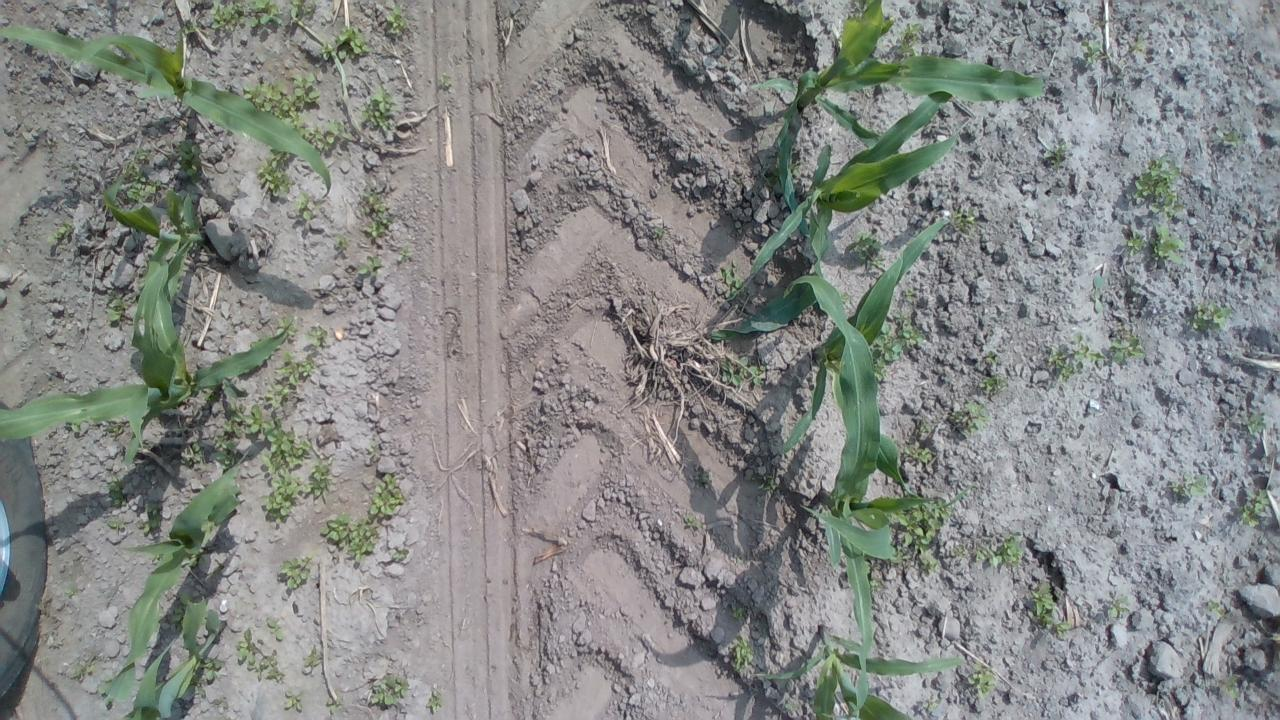Maize: (782, 273, 972, 720), (756, 0, 1049, 243), (710, 90, 954, 342), (0, 24, 333, 198), (0, 267, 288, 468), (774, 220, 949, 501), (103, 448, 251, 703), (751, 622, 964, 720), (104, 177, 205, 381), (121, 596, 228, 720)
Weeds: (213, 400, 310, 472), (888, 498, 952, 572), (871, 312, 927, 380), (1132, 154, 1186, 221), (244, 72, 321, 118), (320, 512, 380, 564), (1046, 335, 1106, 384), (1025, 580, 1071, 642), (259, 473, 311, 527), (235, 628, 284, 682), (210, 0, 284, 30), (255, 142, 295, 197), (165, 589, 211, 633), (124, 150, 160, 206), (366, 472, 406, 519), (355, 191, 392, 240), (320, 25, 370, 60), (362, 87, 400, 130), (949, 400, 993, 434), (1110, 326, 1146, 364), (850, 231, 886, 269), (719, 356, 766, 385), (192, 656, 224, 698), (369, 675, 411, 707), (275, 349, 311, 386), (1193, 302, 1233, 334), (1152, 224, 1184, 264), (1237, 488, 1269, 528), (967, 660, 995, 704), (278, 552, 312, 588), (318, 120, 352, 154), (718, 260, 748, 298), (1168, 471, 1210, 497), (308, 456, 334, 497), (894, 22, 924, 57), (174, 138, 200, 178), (104, 286, 130, 326), (999, 530, 1026, 568), (286, 117, 324, 143), (728, 637, 754, 671), (137, 502, 161, 536), (950, 206, 977, 235), (1042, 142, 1068, 172), (1078, 38, 1106, 64), (384, 7, 409, 36), (106, 476, 128, 507), (864, 557, 884, 590), (978, 374, 1008, 395), (1090, 274, 1106, 313), (1106, 594, 1130, 620), (902, 444, 933, 464), (974, 546, 1002, 568), (290, 0, 320, 20), (294, 190, 314, 220), (265, 615, 288, 641), (1205, 598, 1232, 620), (46, 222, 72, 244), (1214, 128, 1242, 148), (358, 255, 384, 276), (70, 660, 97, 680), (304, 324, 328, 346), (273, 316, 297, 338), (180, 442, 204, 464), (1222, 675, 1242, 701), (1246, 413, 1268, 436), (1126, 231, 1146, 256), (284, 689, 304, 713), (426, 688, 443, 714), (94, 677, 112, 698), (65, 576, 81, 598), (179, 21, 201, 36), (950, 542, 969, 559), (105, 516, 127, 530), (303, 652, 321, 668), (328, 696, 344, 714), (333, 234, 348, 253), (758, 479, 778, 493), (684, 516, 704, 530), (184, 556, 207, 568), (984, 350, 999, 368), (922, 698, 941, 712), (1130, 40, 1146, 56), (366, 441, 381, 458), (652, 226, 669, 241), (399, 247, 412, 265), (105, 424, 128, 434), (732, 605, 746, 621), (438, 75, 452, 88), (391, 548, 406, 560), (63, 422, 81, 432), (902, 287, 914, 301), (698, 472, 711, 484), (789, 162, 800, 176), (919, 423, 933, 434), (784, 702, 798, 712), (202, 392, 215, 402), (838, 292, 848, 302), (888, 15, 898, 25), (736, 554, 746, 564), (1273, 634, 1280, 642)
